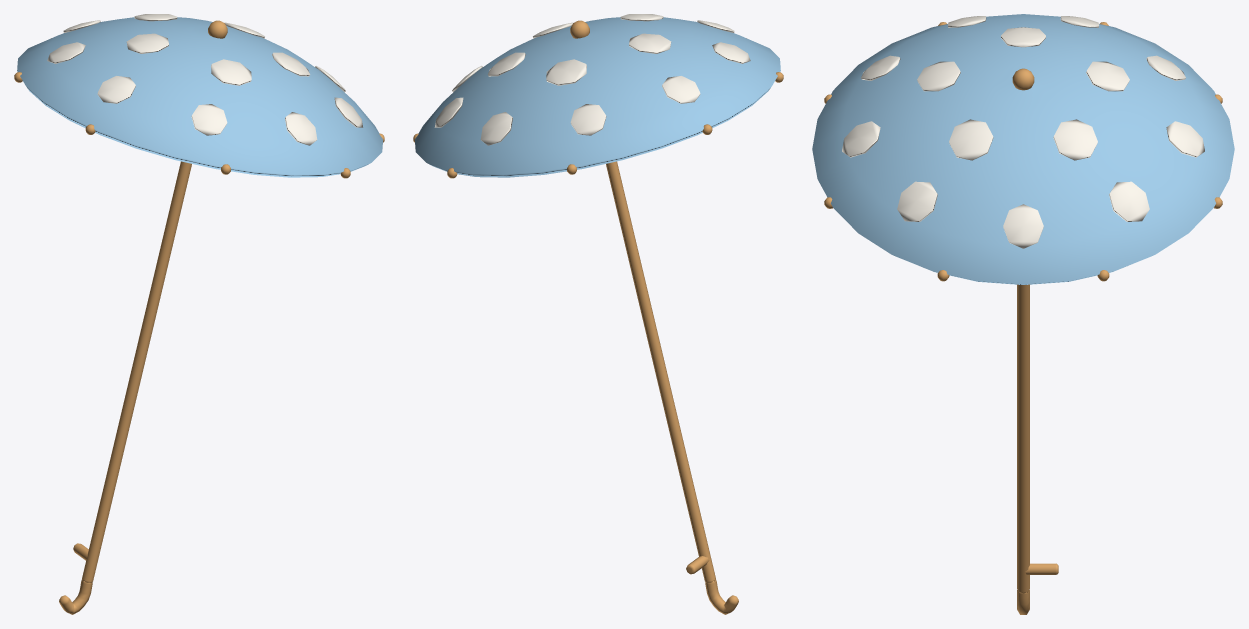
File: hydrangea_umbrella.glb
The picture shows the model from 3 angles, left to right: view 1: azimuth 30°, elevation 25°; view 2: azimuth 150°, elevation 25°; view 3: azimuth 270°, elevation 25°; orthographic projection. The views are drawn at different scales.
Parts seen in each view (by area): view 1: hydrangea_umbrella_ArmR; view 2: hydrangea_umbrella_ArmR; view 3: hydrangea_umbrella_ArmR.
Part boxes in pixels (x1,y1,x2,y2): hydrangea_umbrella_ArmR: (14, 14, 384, 614); hydrangea_umbrella_ArmR: (413, 14, 783, 614); hydrangea_umbrella_ArmR: (812, 14, 1234, 614).
Size of the model in its own units: 0.8703 by 1.47 by 0.9.
